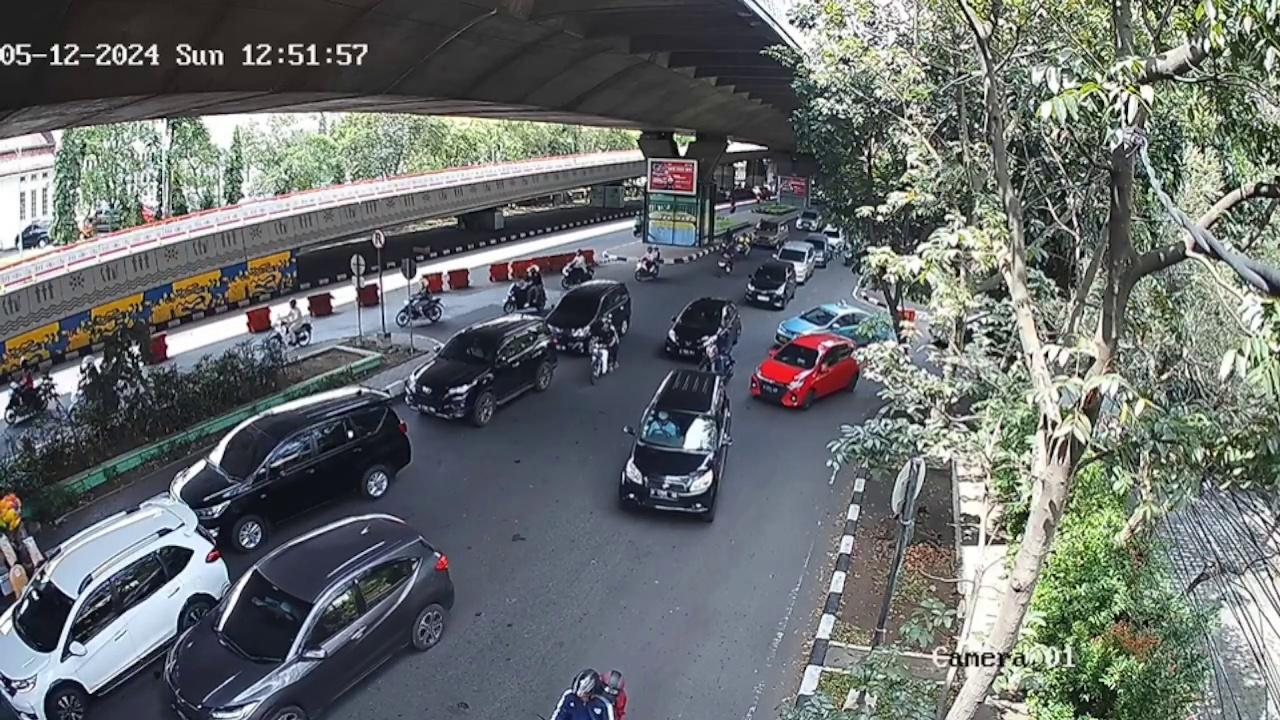pakai: (652, 417, 677, 441), (465, 335, 484, 361)
windshield: (640, 410, 720, 453), (440, 331, 507, 374)
